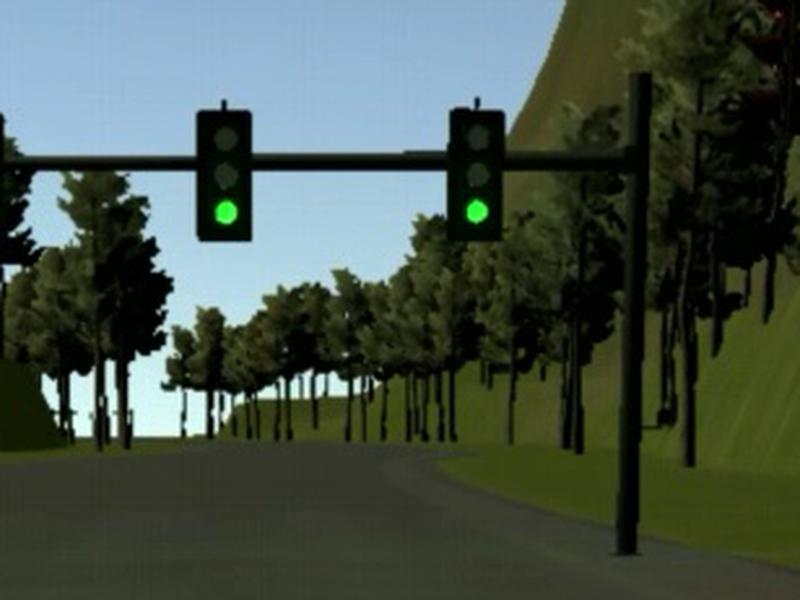Green: (197, 109, 252, 241), (448, 109, 503, 240)
